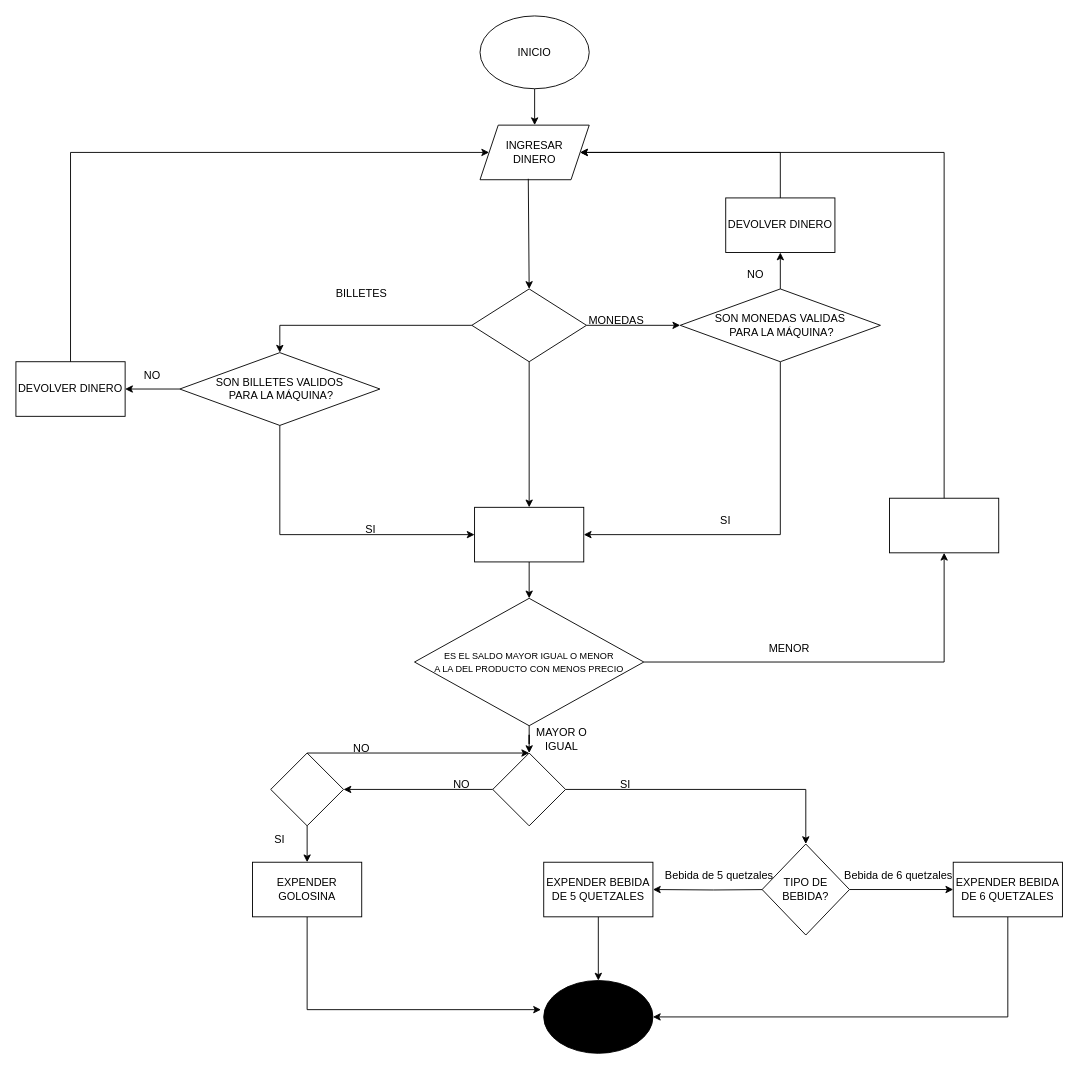
The diagram is 1078 pixels wide and 1069 high, and some of its shapes have lost their labels. The shapes that lost their labels are listed below. From the top down, each one's centre as x and y in pixels, then its label:
[528,325]: MONEDAS O BILLETES?
[529,534]: SUMAR AL SALDO CANTIDAD INGRESADA
[944,525]: MOSTRAR MENSAJE: "INGRESAR EL MONTO MÍNIMO"
[307,789]: GOLOSINA?
[529,789]: BEBIDA?
[598,1016]: FIN
